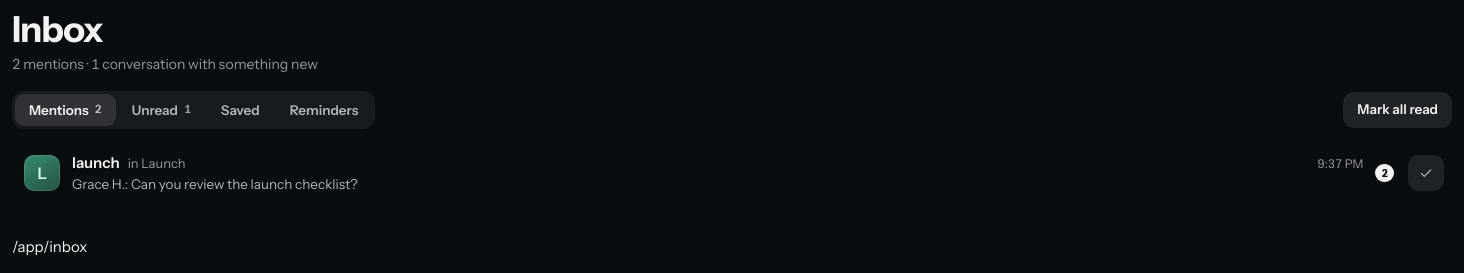
InboxPage › says it could not load saved messages, rather than showing none
What coordinates should you click on to do the following:
click the tab "Saved"
I would click on:
 (240, 110)
Its box is [207,94,274,126].
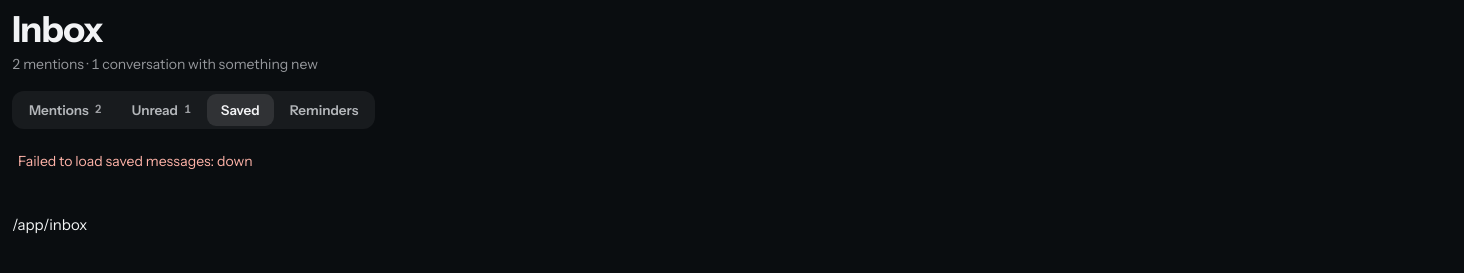
Check: the message shows "Failed to load saved messages", box [18,152,253,170]
